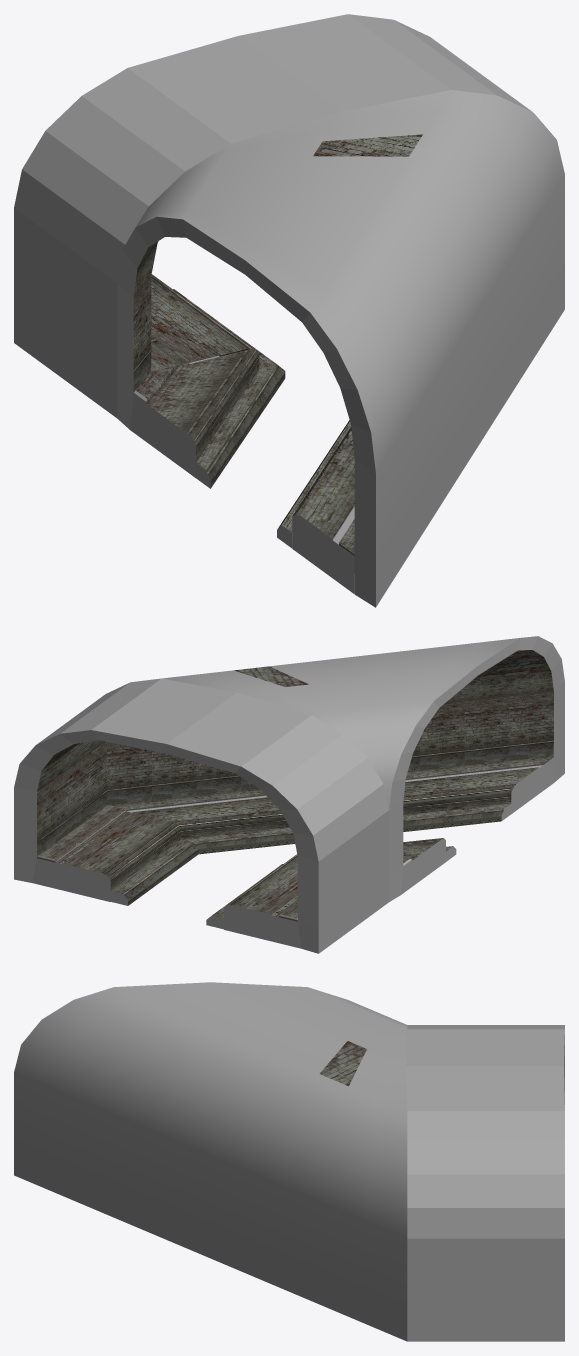
The model's file is SewerTurnRight.fbx.
3 renders of one model, top to bottom at view 1: azimuth 30°, elevation 25°; view 2: azimuth 150°, elevation 25°; view 3: azimuth 270°, elevation 25°, orthographic. The views are drawn at different scales.
Parts seen in each view (by area): view 1: polySurface15; view 2: polySurface15; view 3: polySurface15.
Part boxes in pixels (<box>): polySurface15: <box>14,14,564,607</box>; polySurface15: <box>14,636,564,953</box>; polySurface15: <box>14,982,564,1341</box>.
Bounding box in the file's own units: 41.4 × 22.24 × 57.62.
Materials: 2 (1 with a texture image).
